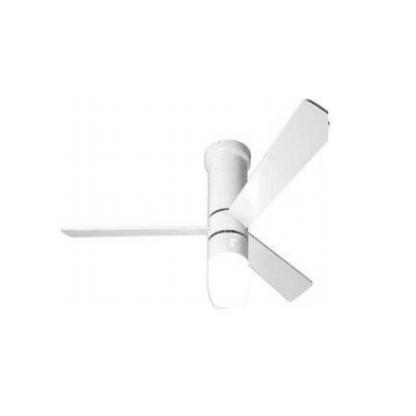ceiling-fan: (60, 97, 329, 308)
